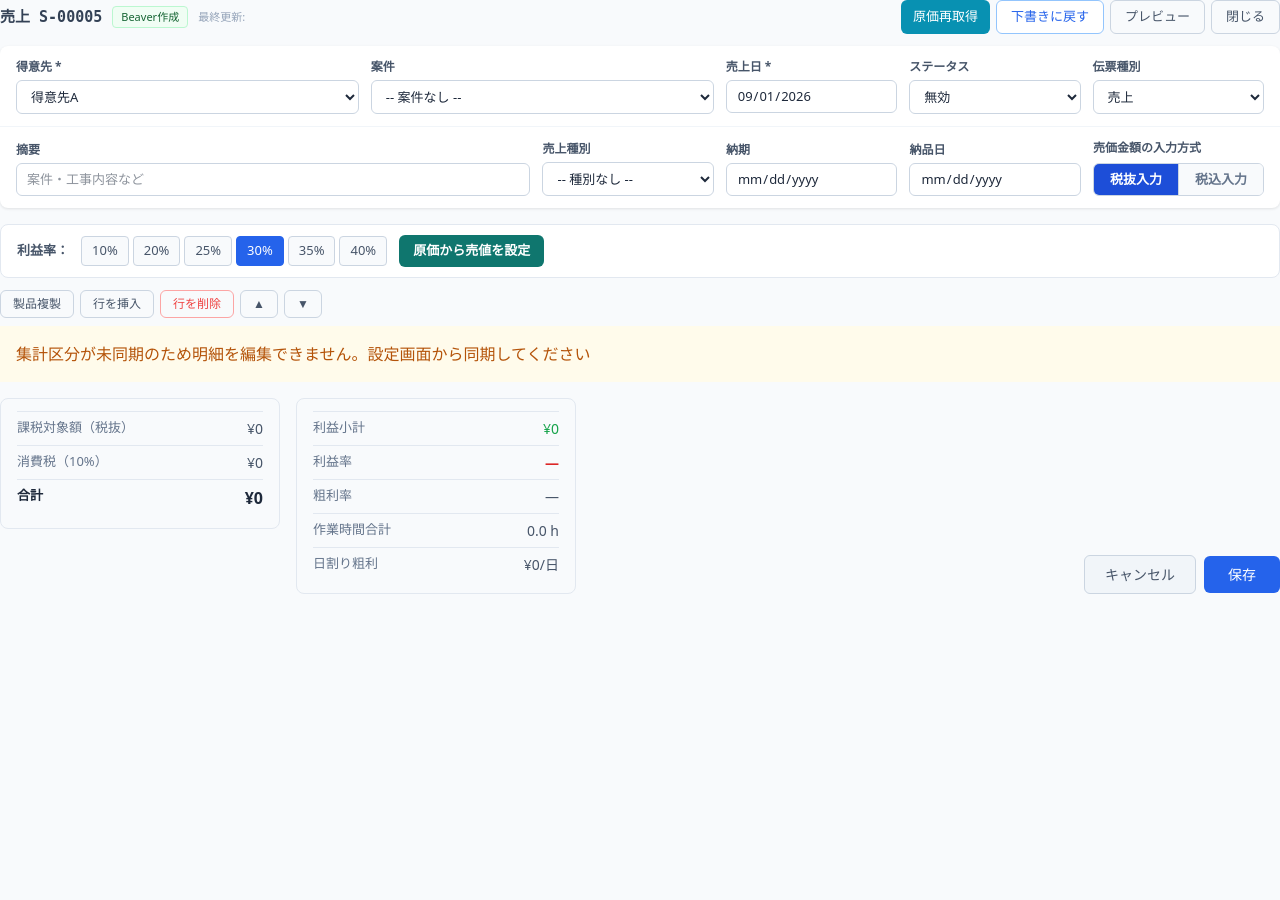
R-0170: 取消した伝票を下書きに戻す › 確認ダイアログで理由を入れて戻すと API を呼び、下書きとして編集できる状態になる
Click the button "下書きに戻す" at [1050, 17], box [996,0,1104,34]
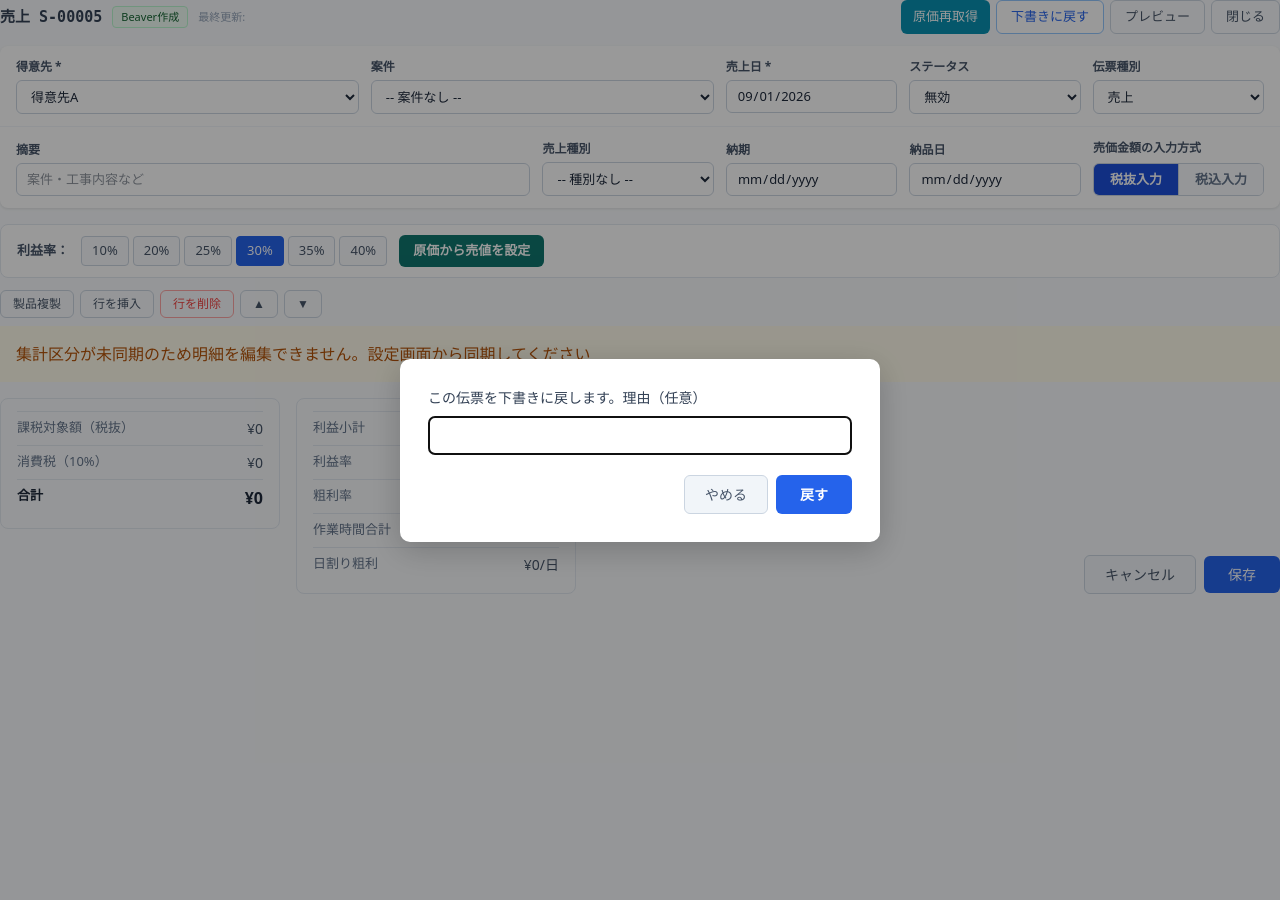
Expected: the text "この伝票を下書きに戻します。理由（任意）" is shown, [428,388,707,406]
Type "取消を誤った" into the field labelled "この伝票を下書きに戻します。理由（任意）" at [640, 435], box [428,416,852,454]
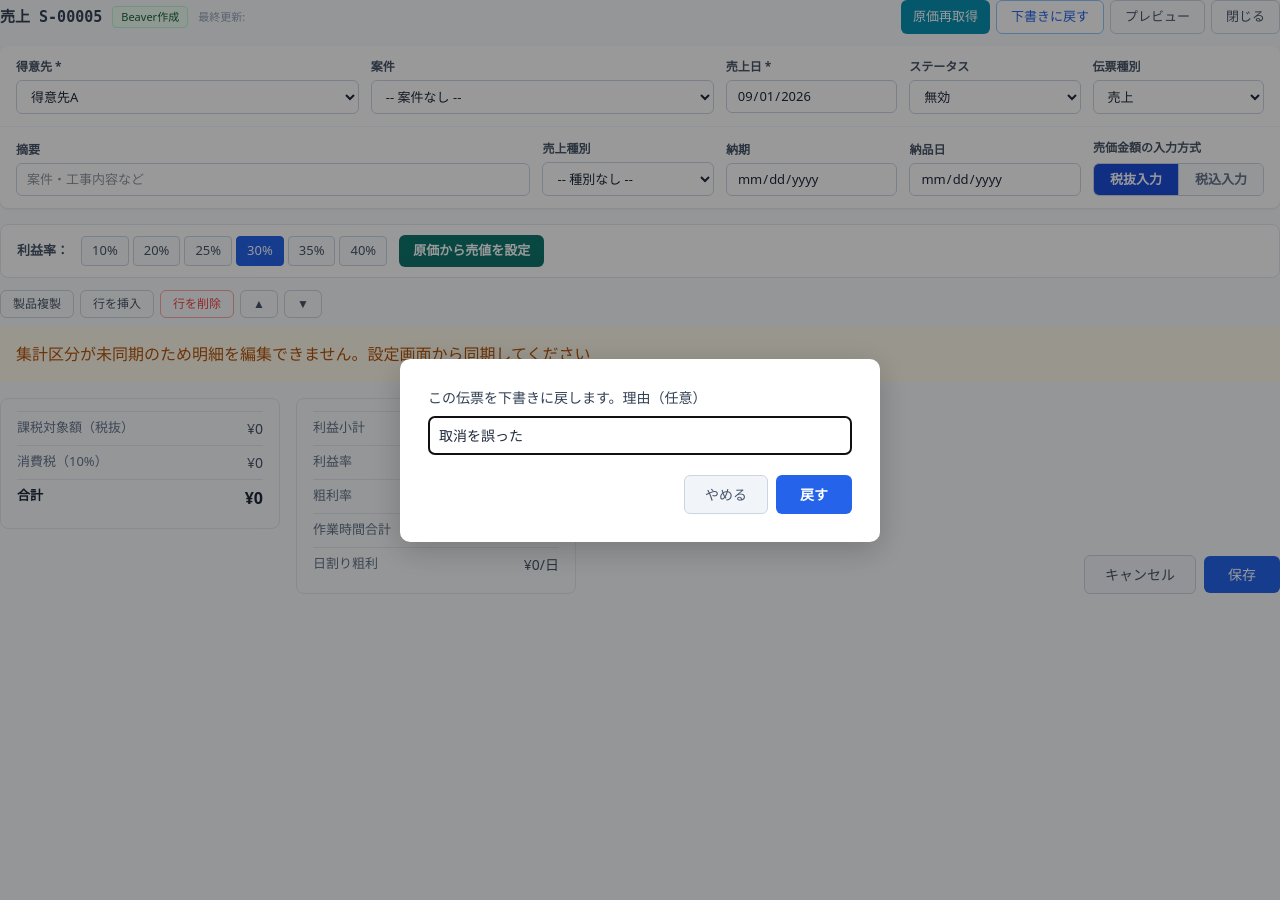
Click the button "戻す" at [814, 494], box [776,474,852,514]
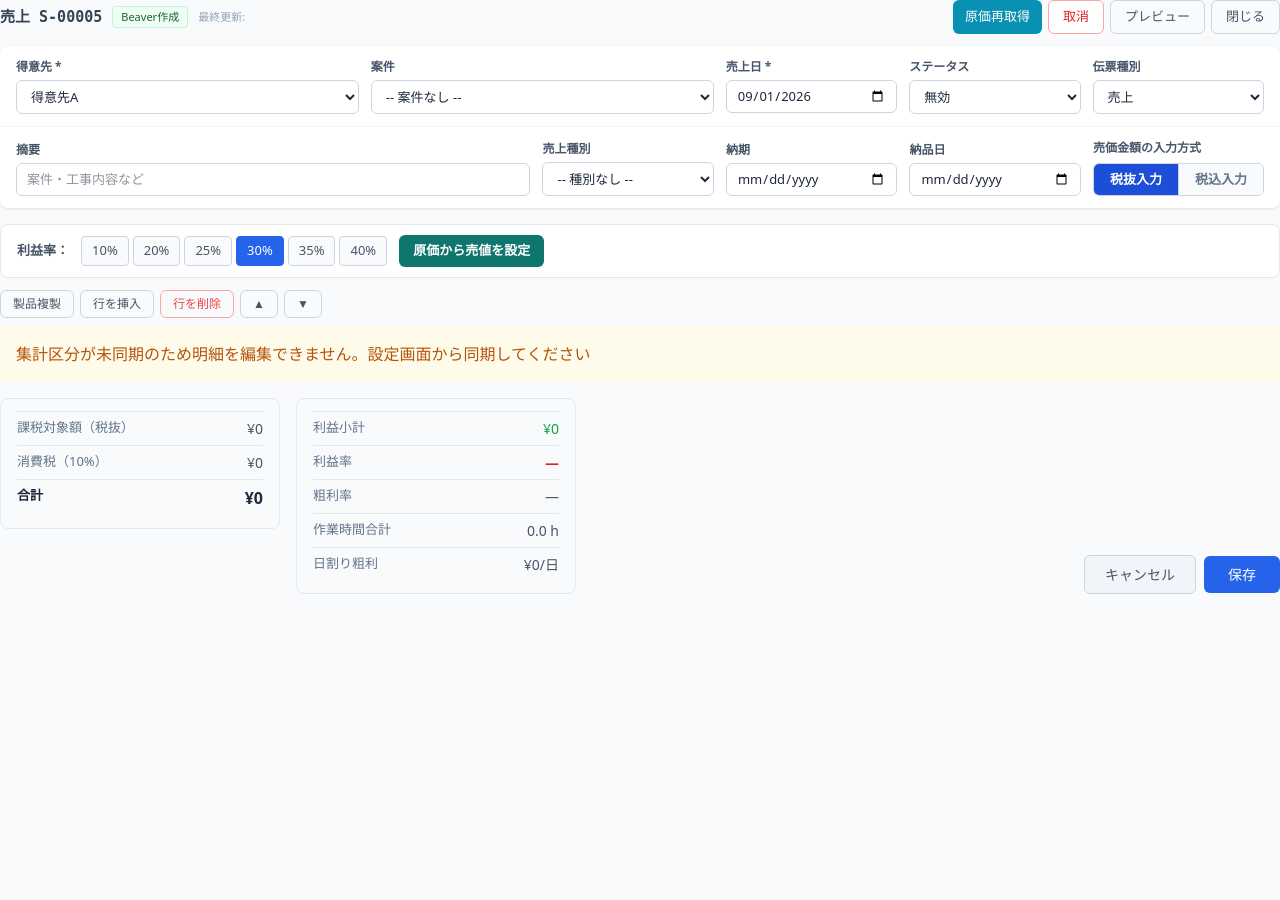
Expected: the button "取消" is shown, [1048,0,1104,34]
Expected: the button "下書きに戻す" is gone
